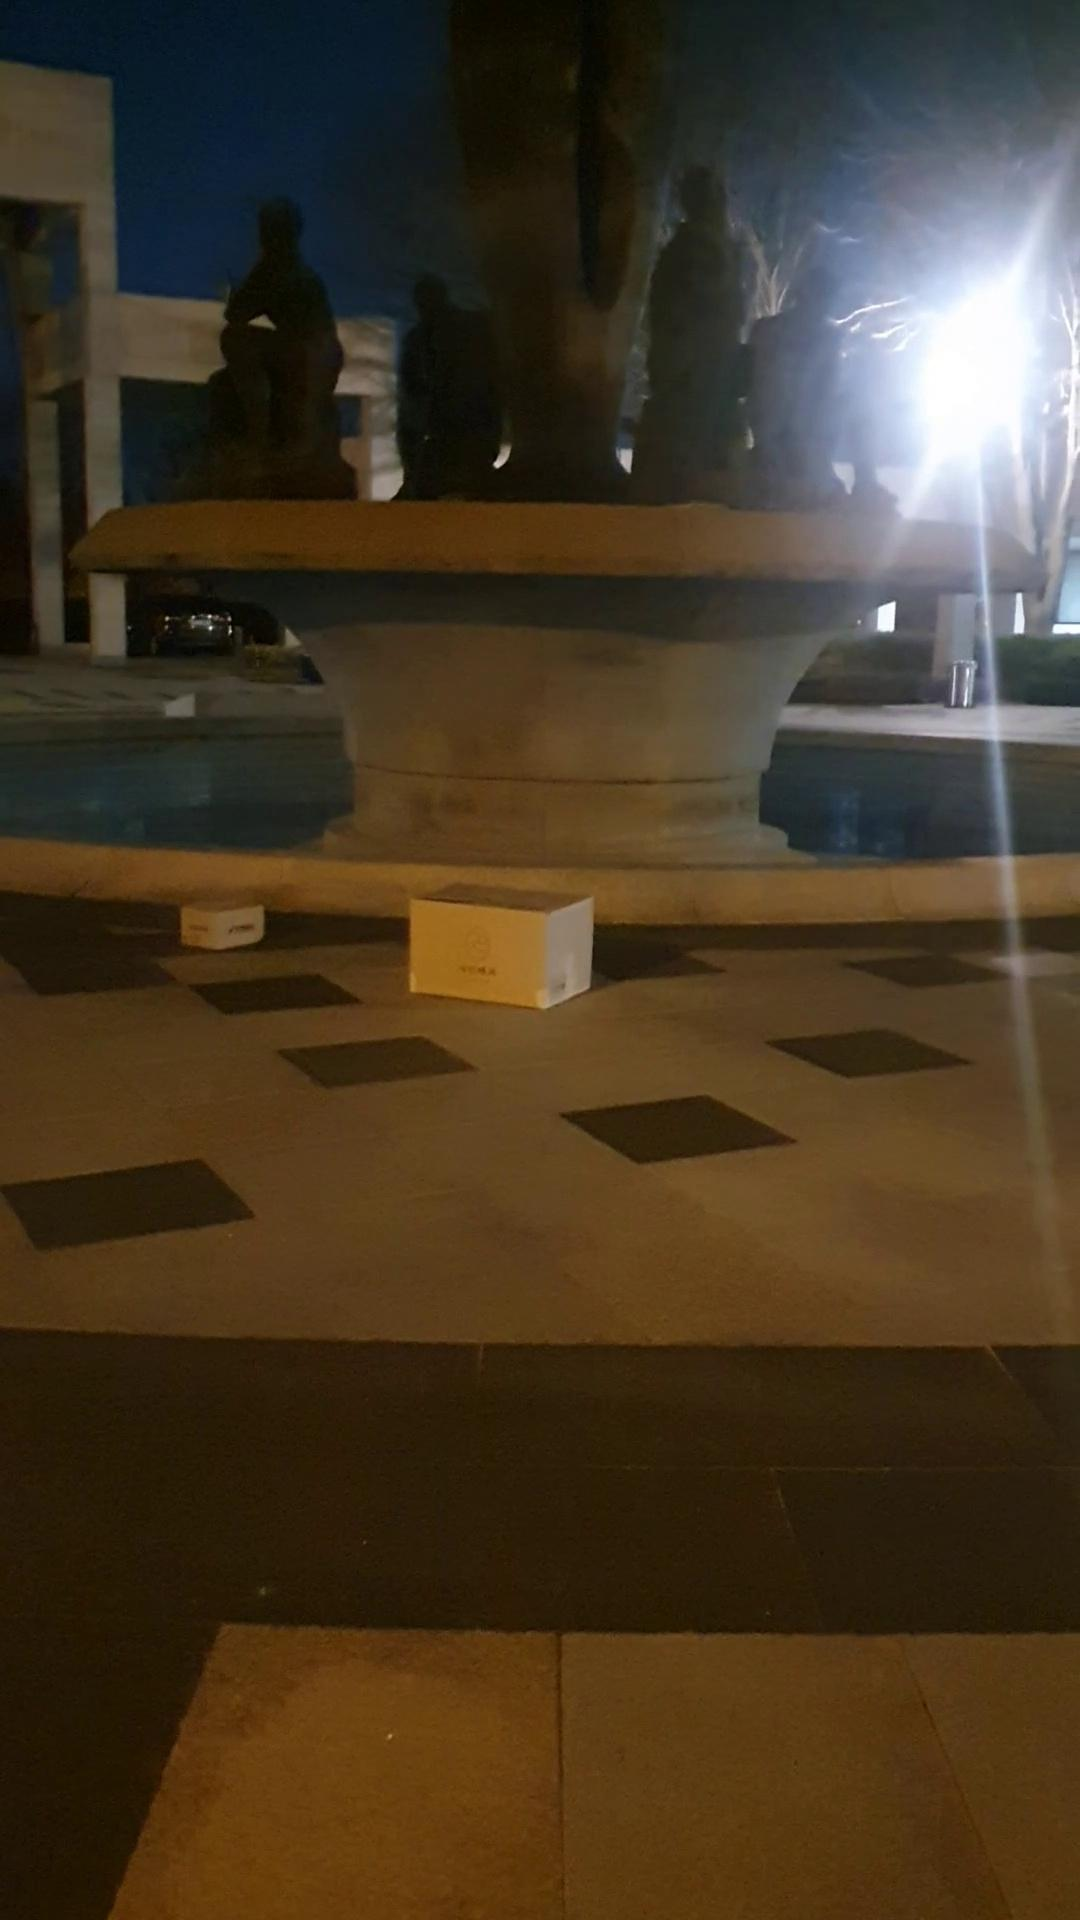Box: (392, 878, 608, 1015), (173, 880, 265, 955)
